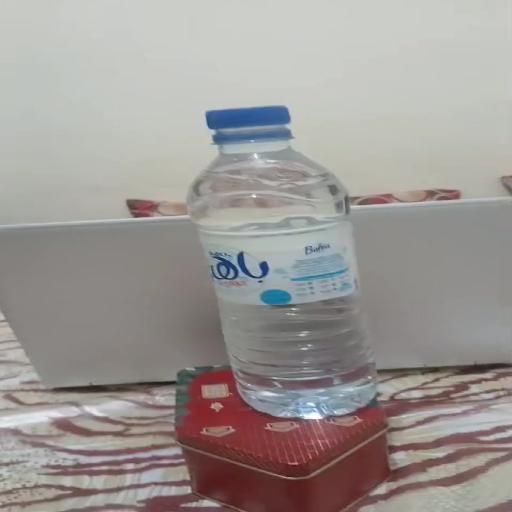bouteille non conformite: (160, 91, 366, 163)
